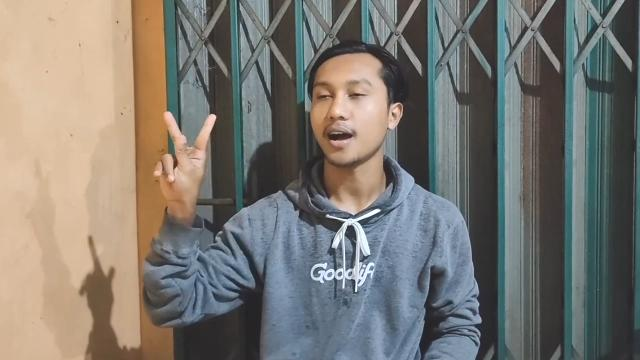K: (152, 108, 220, 221)
